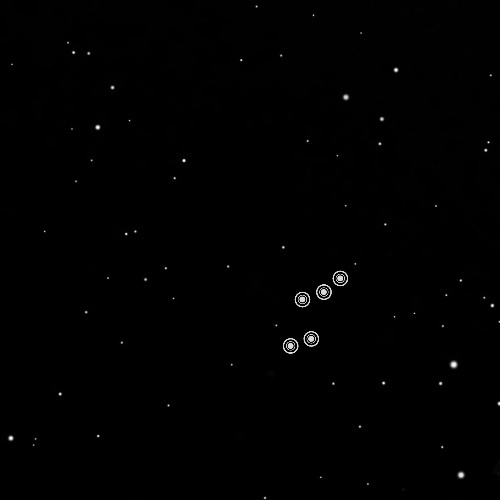lyra: (277, 263, 351, 364)
